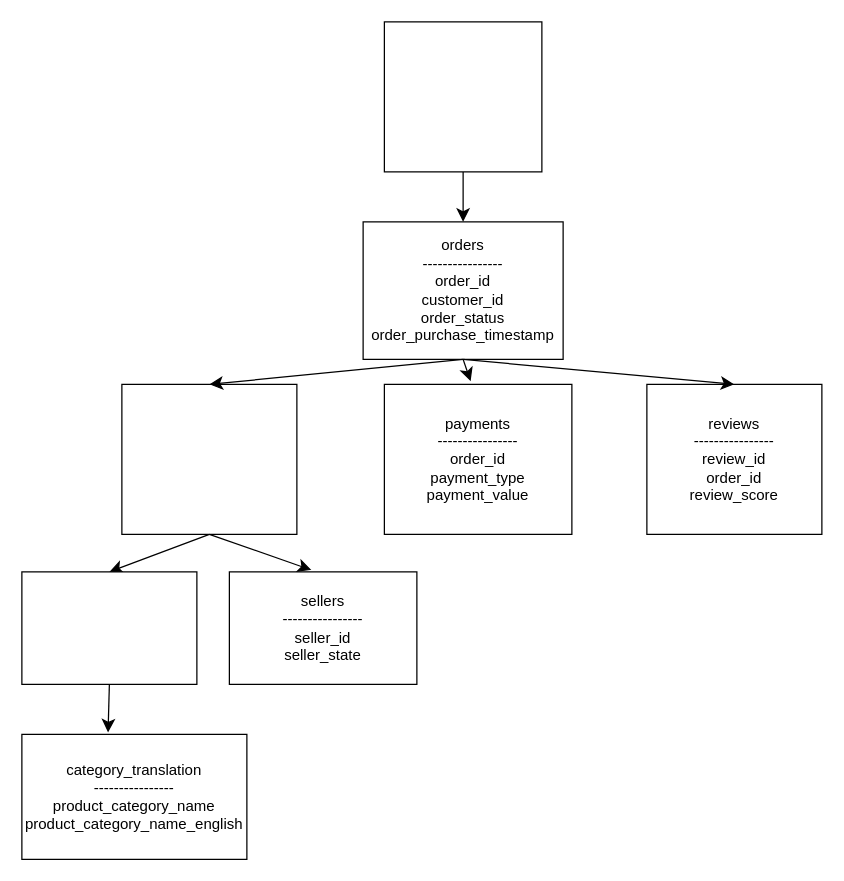
Image size: 844x881. Some labels were removed from this diagram. The box of each missing label's shape, as (x1, y1, x2, y2) in pixels:
customers ---------------- customer_id customer_unique_id customer_state: (383, 21, 542, 172)
order_items ---------------- order_id product_id seller_id price freight_value: (121, 383, 297, 534)
products ---------------- product_id product_category_name: (21, 571, 197, 684)
